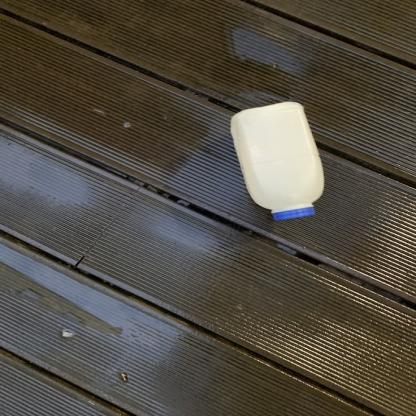trash: (229, 102, 328, 221)
